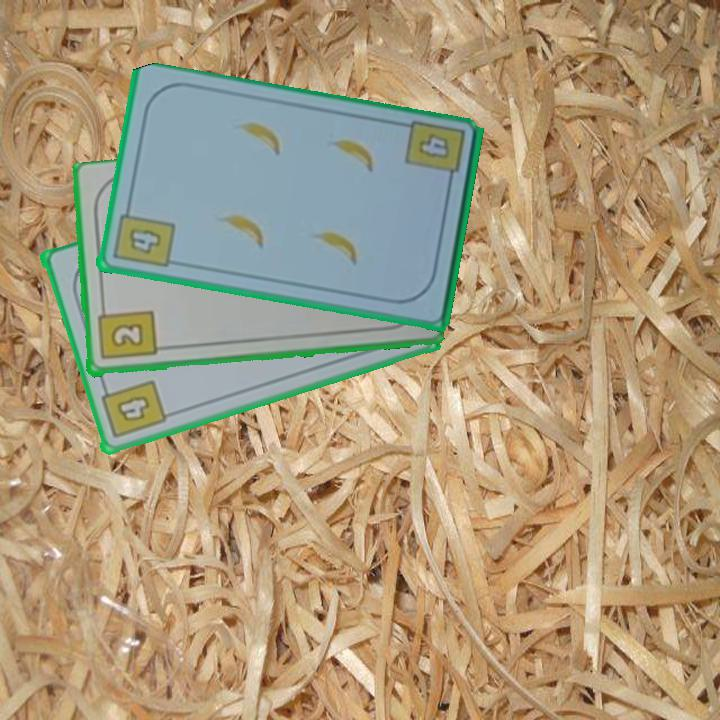2b: (93, 302, 158, 363)
4b: (401, 118, 468, 190), (109, 201, 177, 271), (97, 377, 168, 442)
